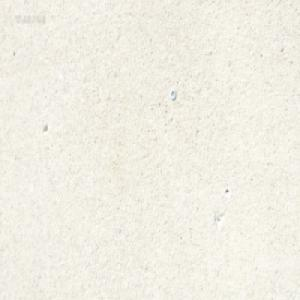Washer: (170, 90, 176, 101)
